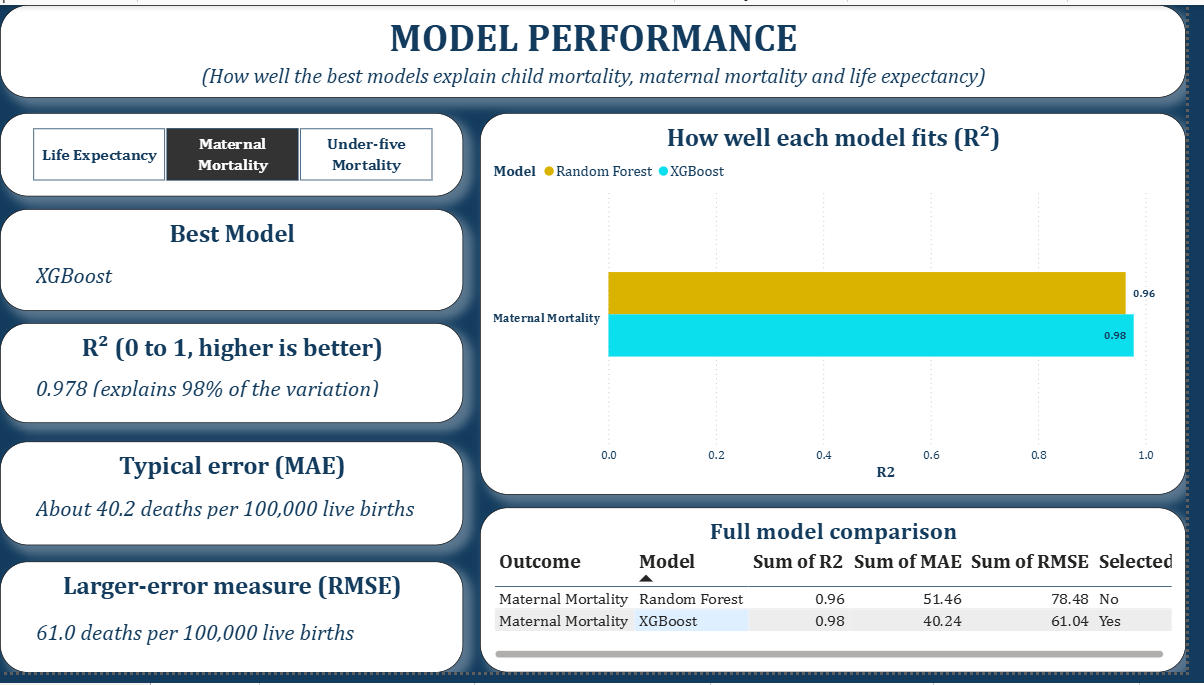

What the dashboard file says about the page in this screenshot:
{"tool":"powerbi","page":{"name":"Model Performance","canvas":[1280,720],"ordinal":3},"visuals":[{"type":"slicer","fields":{"Values":["model_performance.Outcome"]},"box":[0,116,500,90],"z":0},{"type":"cardVisual","title":"Best Model","fields":{"Data":["model_performance.Best Model"]},"box":[0,220,500,110],"z":1000},{"type":"cardVisual","title":"R² (0 to 1, higher is better)","fields":{"Data":["model_performance.Best R2 Text"]},"box":[0,344,500,108],"z":2000},{"type":"cardVisual","title":"Typical error (MAE)","fields":{"Data":["model_performance.MAE Text"]},"box":[0,472,500,112],"z":3000},{"type":"cardVisual","title":"Larger-error measure (RMSE)","fields":{"Data":["model_performance.RMSE Text"]},"box":[0,600,500,120],"z":4000},{"type":"clusteredBarChart","title":"How well each model fits (R²)","fields":{"Category":["model_performance.Outcome"],"Series":["model_performance.Model"],"Y":["Max(model_performance.R2)"]},"box":[518,116,762,412],"z":5000},{"type":"tableEx","title":"Full model comparison","fields":{"Values":["model_performance.Outcome","model_performance.Model","Sum(model_performance.R2)","Sum(model_performance.MAE)","Sum(model_performance.RMSE)","model_performance.Selected"]},"box":[518,542,762,178],"z":6000},{"type":"textbox","title":"MODEL PERFORMANCE","box":[0,0,1280,100],"z":7000}]}

Visuals, with their boxes in screenshot pixels (x1, y1, x2, y2), scaled from the page's 1280x720 canvas onto the 1204x685 screenshot:
slicer - model_performance.Outcome: <region>0, 110, 470, 196</region>
"Best Model" cardVisual: <region>0, 209, 470, 314</region>
"R² (0 to 1, higher is better)" cardVisual: <region>0, 327, 470, 430</region>
"Typical error (MAE)" cardVisual: <region>0, 449, 470, 556</region>
"Larger-error measure (RMSE)" cardVisual: <region>0, 571, 470, 684</region>
"How well each model fits (R²)" clusteredBarChart: <region>487, 110, 1203, 502</region>
"Full model comparison" tableEx: <region>487, 516, 1203, 684</region>
"MODEL PERFORMANCE" textbox: <region>0, 0, 1203, 95</region>
